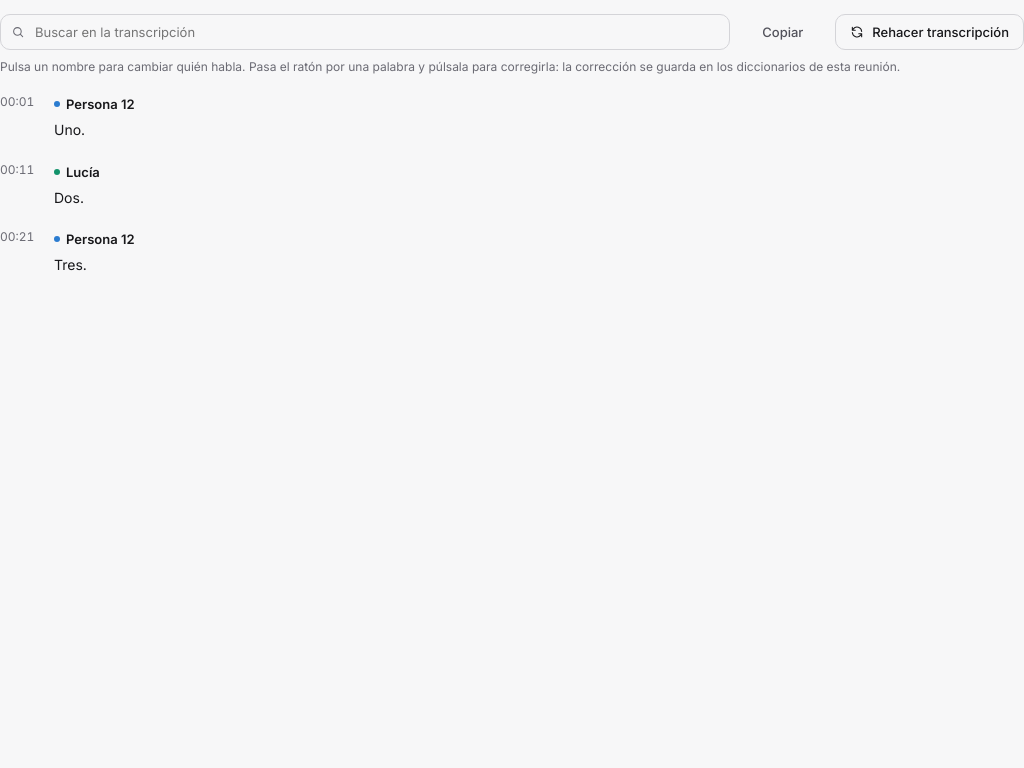
Test: offers a manually assigned name even when it resembles a numbered placeholder
The width and height of the screenshot is (1024, 768).
Click the button "Persona 12" next to "00:01".
click(94, 104)  # box 48,92 -> 140,116
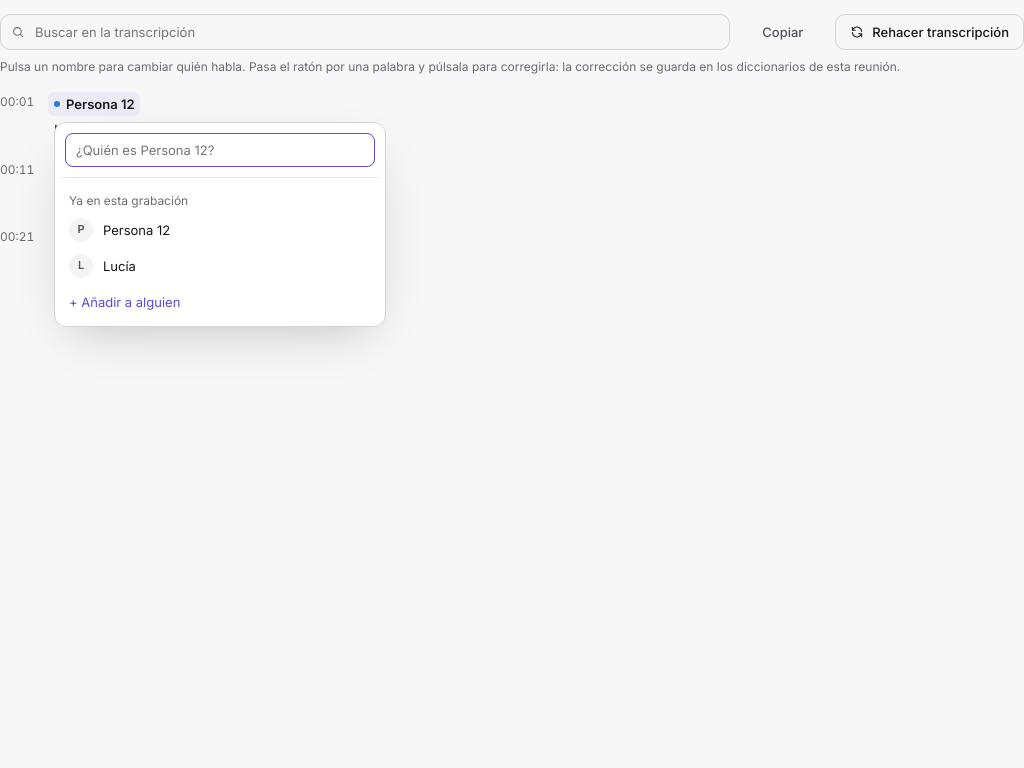
Expected: the button "P Persona 12" is shown, 61,212 -> 379,248
